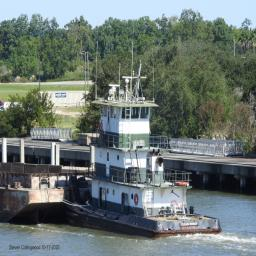tugboat: (63, 75, 224, 243)
